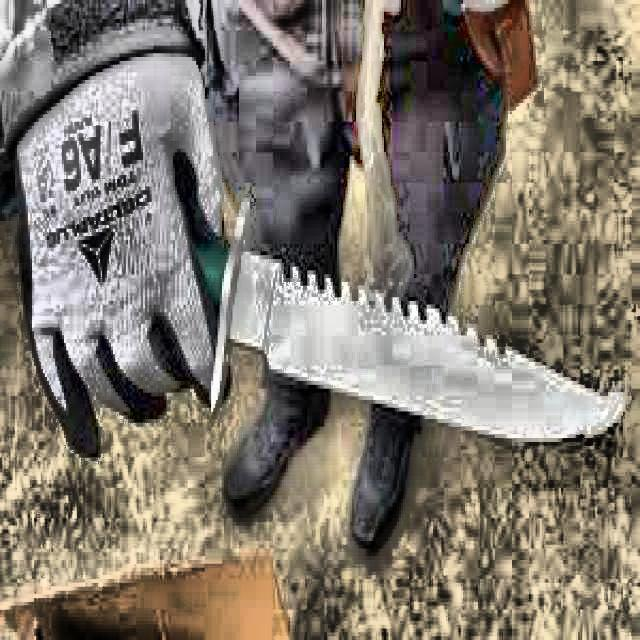knife: (178, 191, 631, 457)
